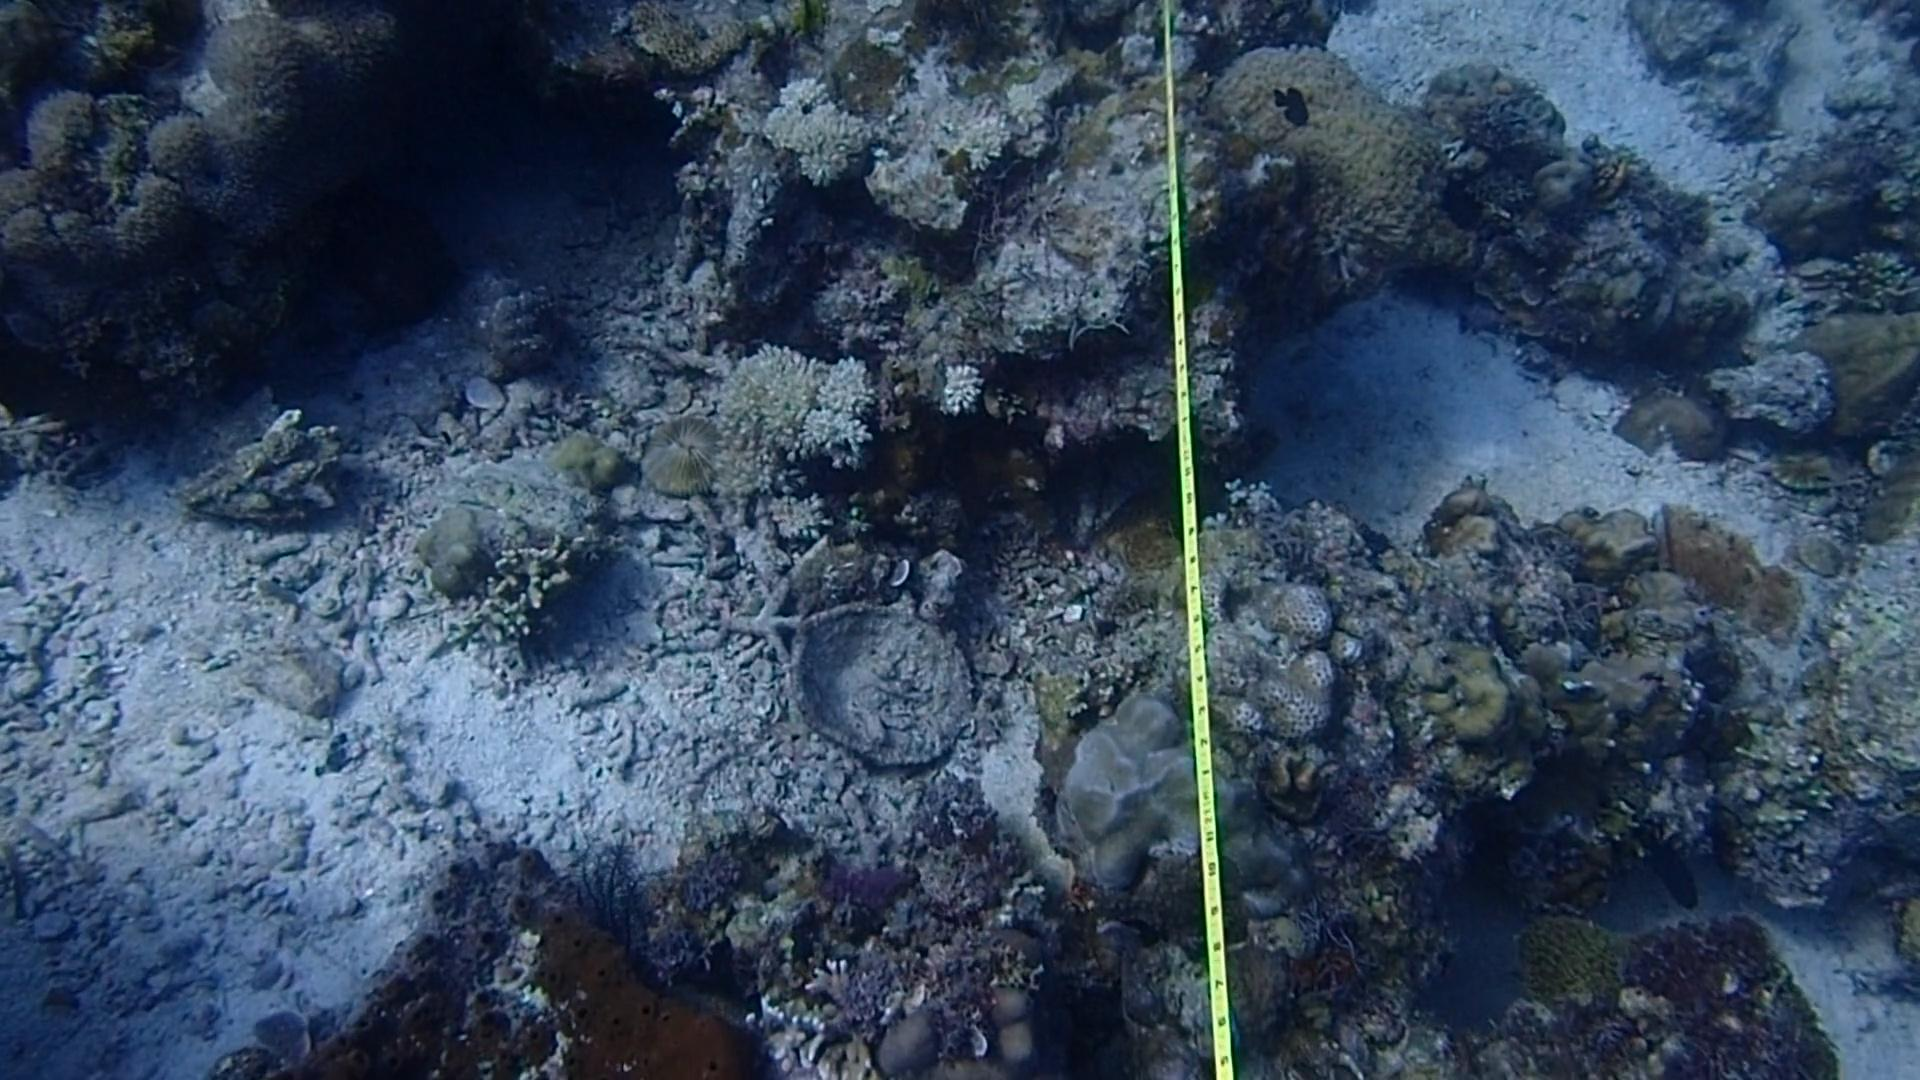Dark Fish: (1638, 816, 1709, 915), (1428, 165, 1499, 243), (1263, 70, 1319, 131)
